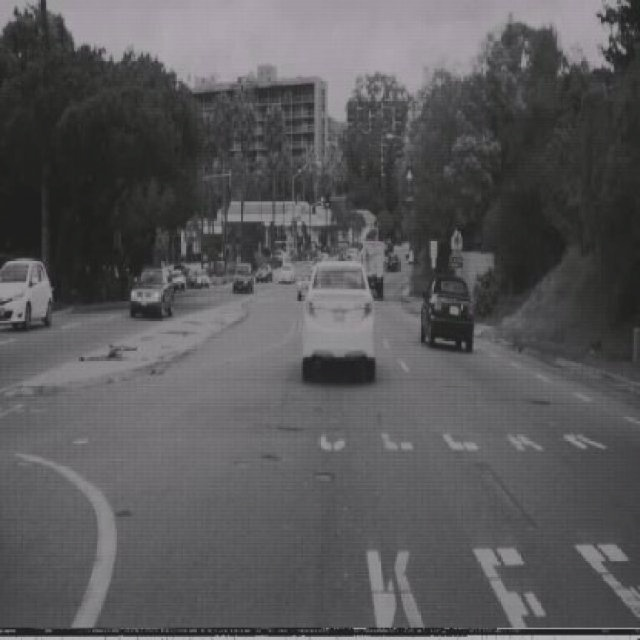school: (450, 228, 462, 250)
